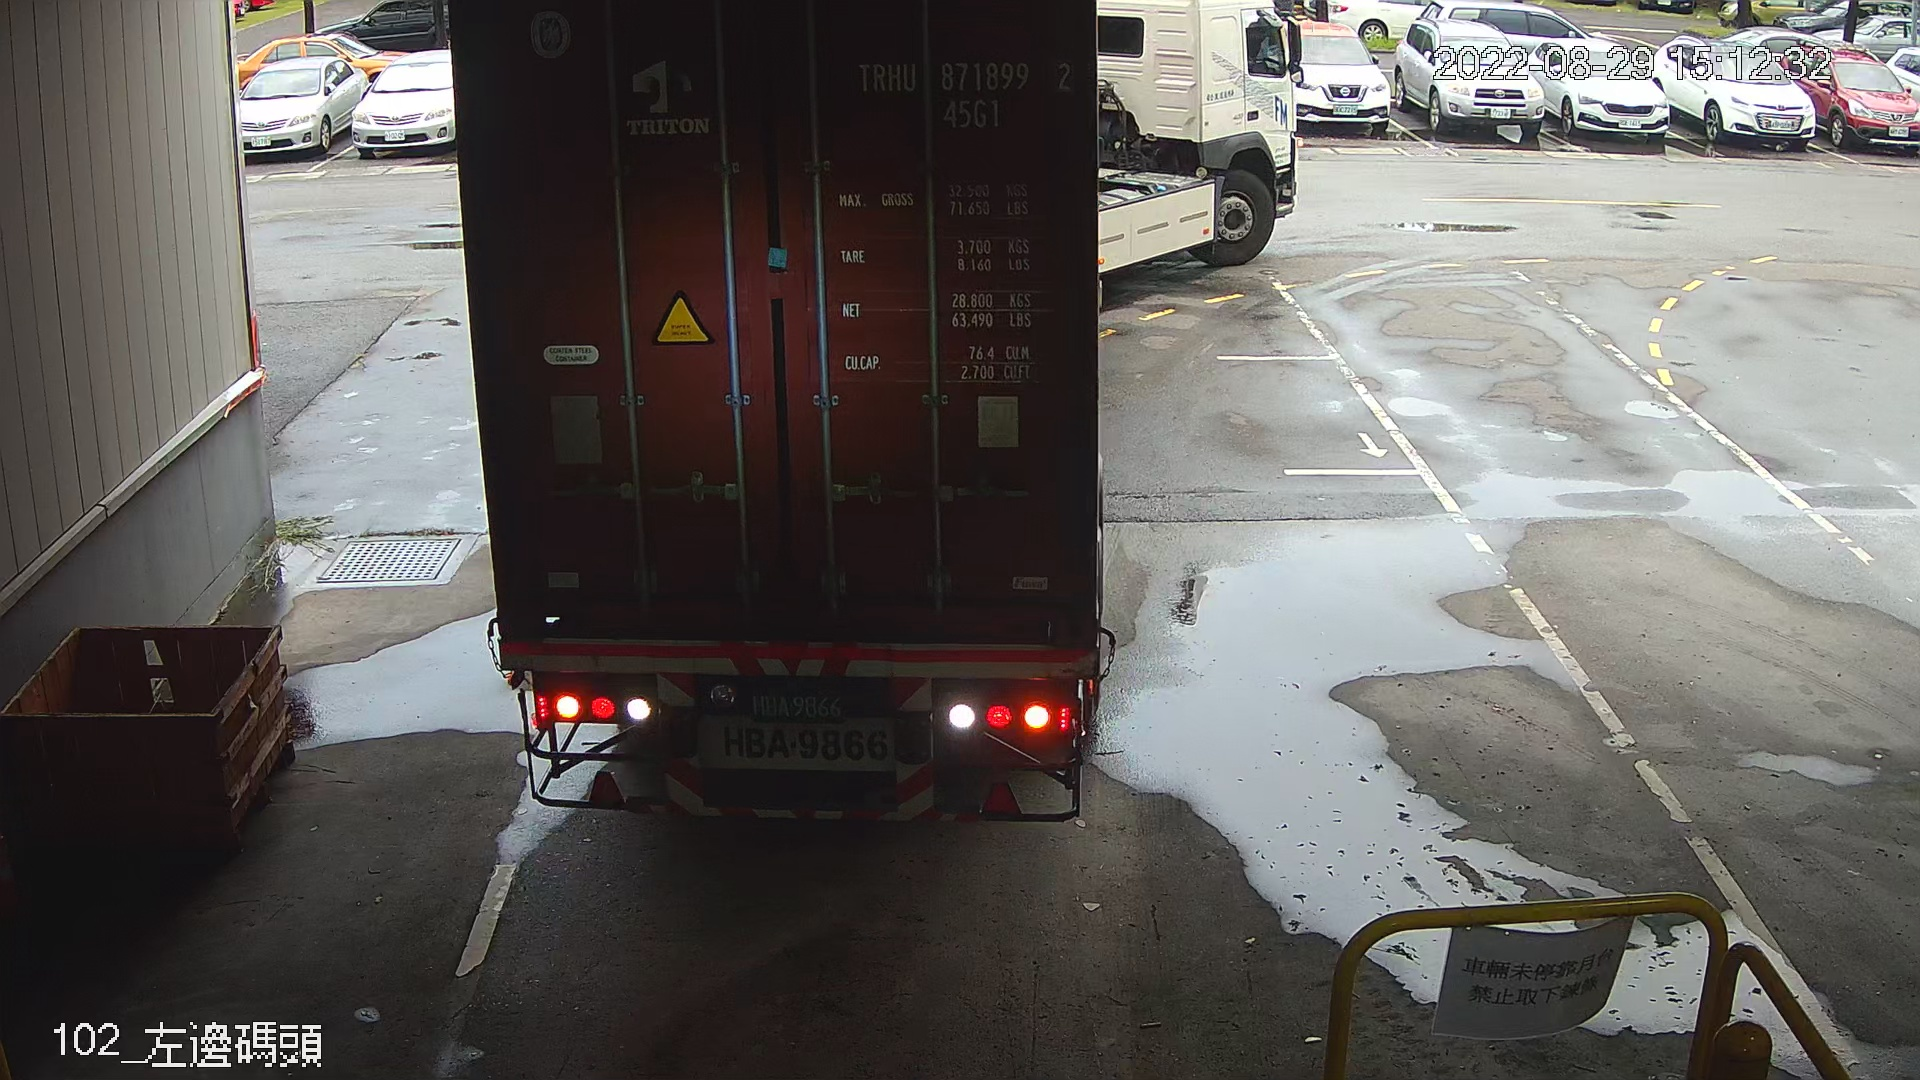container: (847, 47, 1079, 138)
